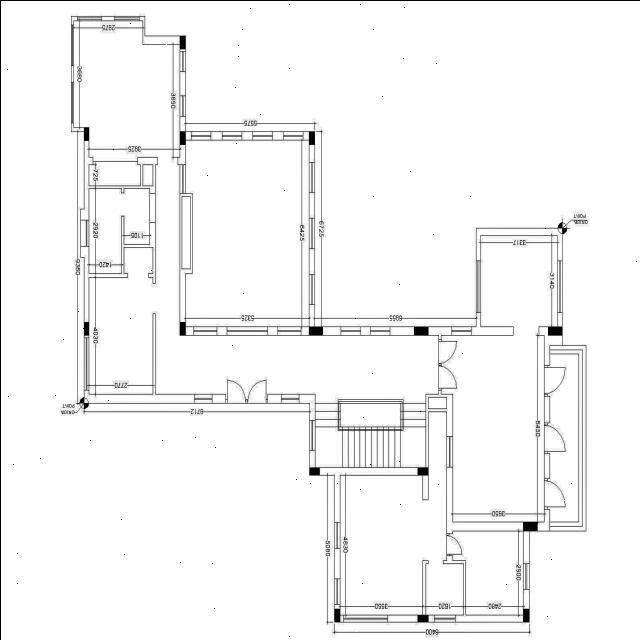Column: (522, 520, 536, 530), (308, 326, 322, 334), (413, 326, 427, 334), (547, 326, 561, 334), (178, 34, 184, 49), (417, 614, 428, 622), (417, 466, 428, 474), (178, 130, 184, 144), (179, 321, 185, 335), (308, 130, 314, 144), (522, 608, 528, 622), (308, 466, 318, 474), (83, 321, 88, 335), (83, 126, 88, 140), (334, 608, 339, 622)
Door: (540, 418, 566, 456), (542, 474, 566, 512), (542, 362, 566, 398), (246, 378, 268, 403), (226, 377, 246, 404), (444, 531, 462, 557)
Double-Door: (436, 338, 456, 392)
Staircase: (313, 397, 427, 469)
Window: (225, 325, 268, 335), (342, 613, 388, 622), (82, 336, 89, 390), (474, 258, 480, 312), (556, 259, 562, 313), (79, 218, 89, 247), (445, 433, 453, 468), (307, 216, 315, 249), (307, 272, 315, 305), (307, 418, 315, 451), (307, 160, 315, 192), (192, 325, 217, 335), (276, 326, 300, 336), (192, 392, 212, 404), (178, 162, 185, 194), (332, 520, 340, 548), (522, 562, 530, 590), (69, 80, 74, 124), (69, 22, 74, 66), (220, 130, 242, 140), (250, 130, 272, 140), (282, 130, 304, 140), (368, 325, 389, 335), (450, 325, 471, 335), (190, 130, 210, 140), (340, 325, 360, 335), (279, 392, 299, 402), (333, 576, 340, 604), (178, 49, 186, 72), (76, 14, 102, 21), (433, 614, 455, 622), (113, 14, 139, 20), (178, 94, 185, 116)
